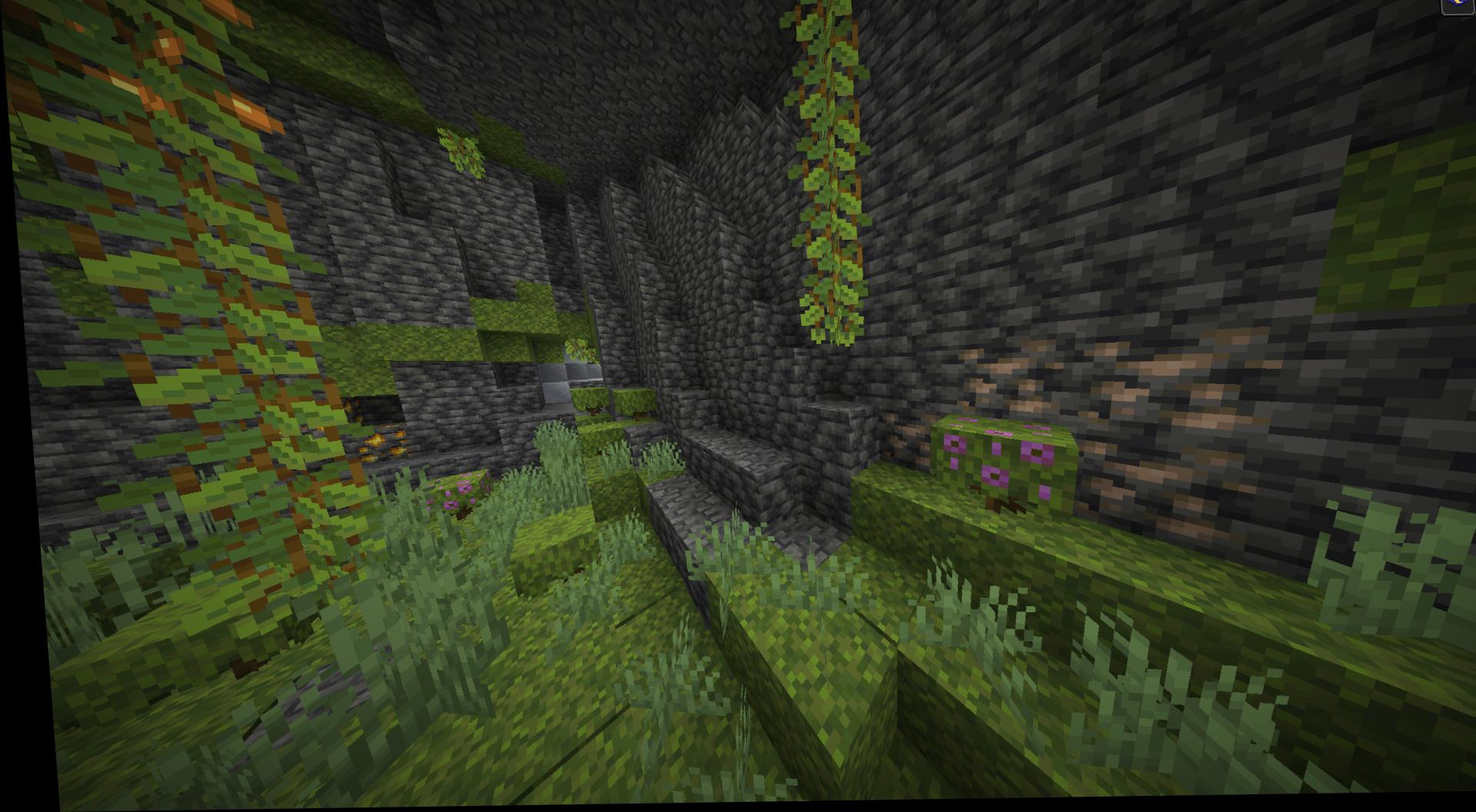gold ore: (348, 422, 409, 469)
iron ore: (1065, 333, 1281, 453), (1069, 431, 1244, 556), (951, 338, 1059, 425), (868, 411, 939, 475)
